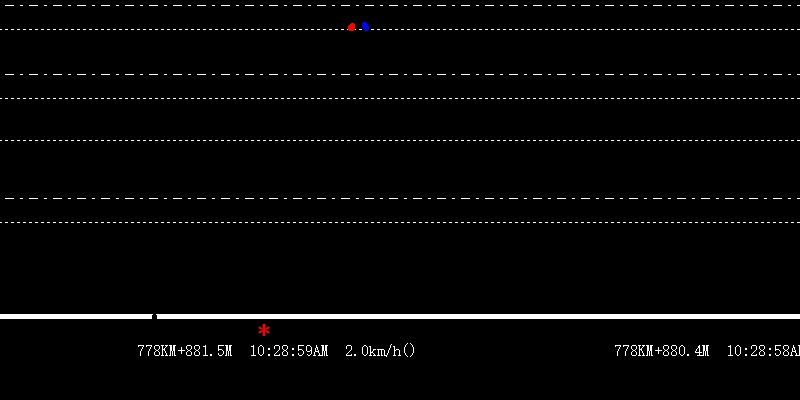face_1: (357, 21, 369, 35), (345, 20, 357, 33)
star: (253, 322, 275, 339)
